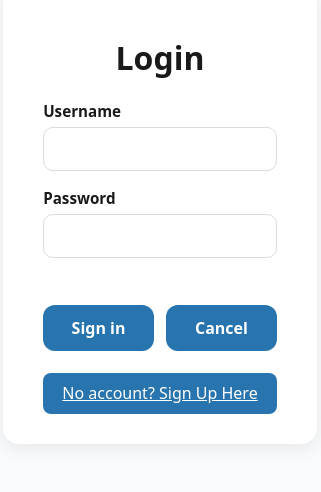
Test: Test when user is not logged in › displays error if password is empty
Type "pedro" into the field labelled "Username" at (160,149), box [43,127,277,171]
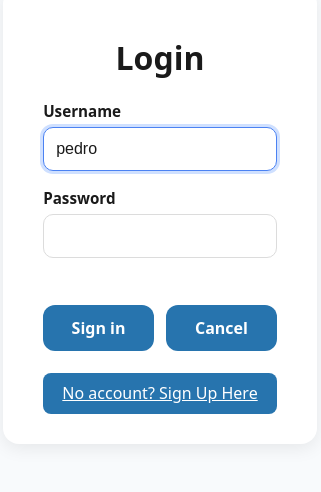
Click the button "Sign in" at (99,328), box [43,304,154,350]
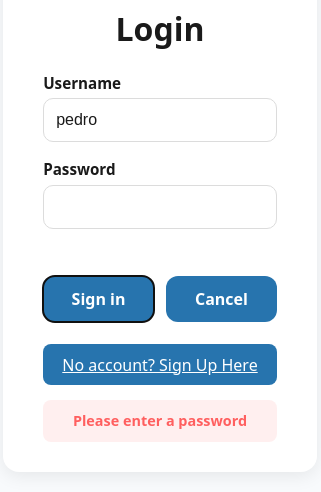
Result: the text "Please enter a password" is shown at [43,400,277,442]
